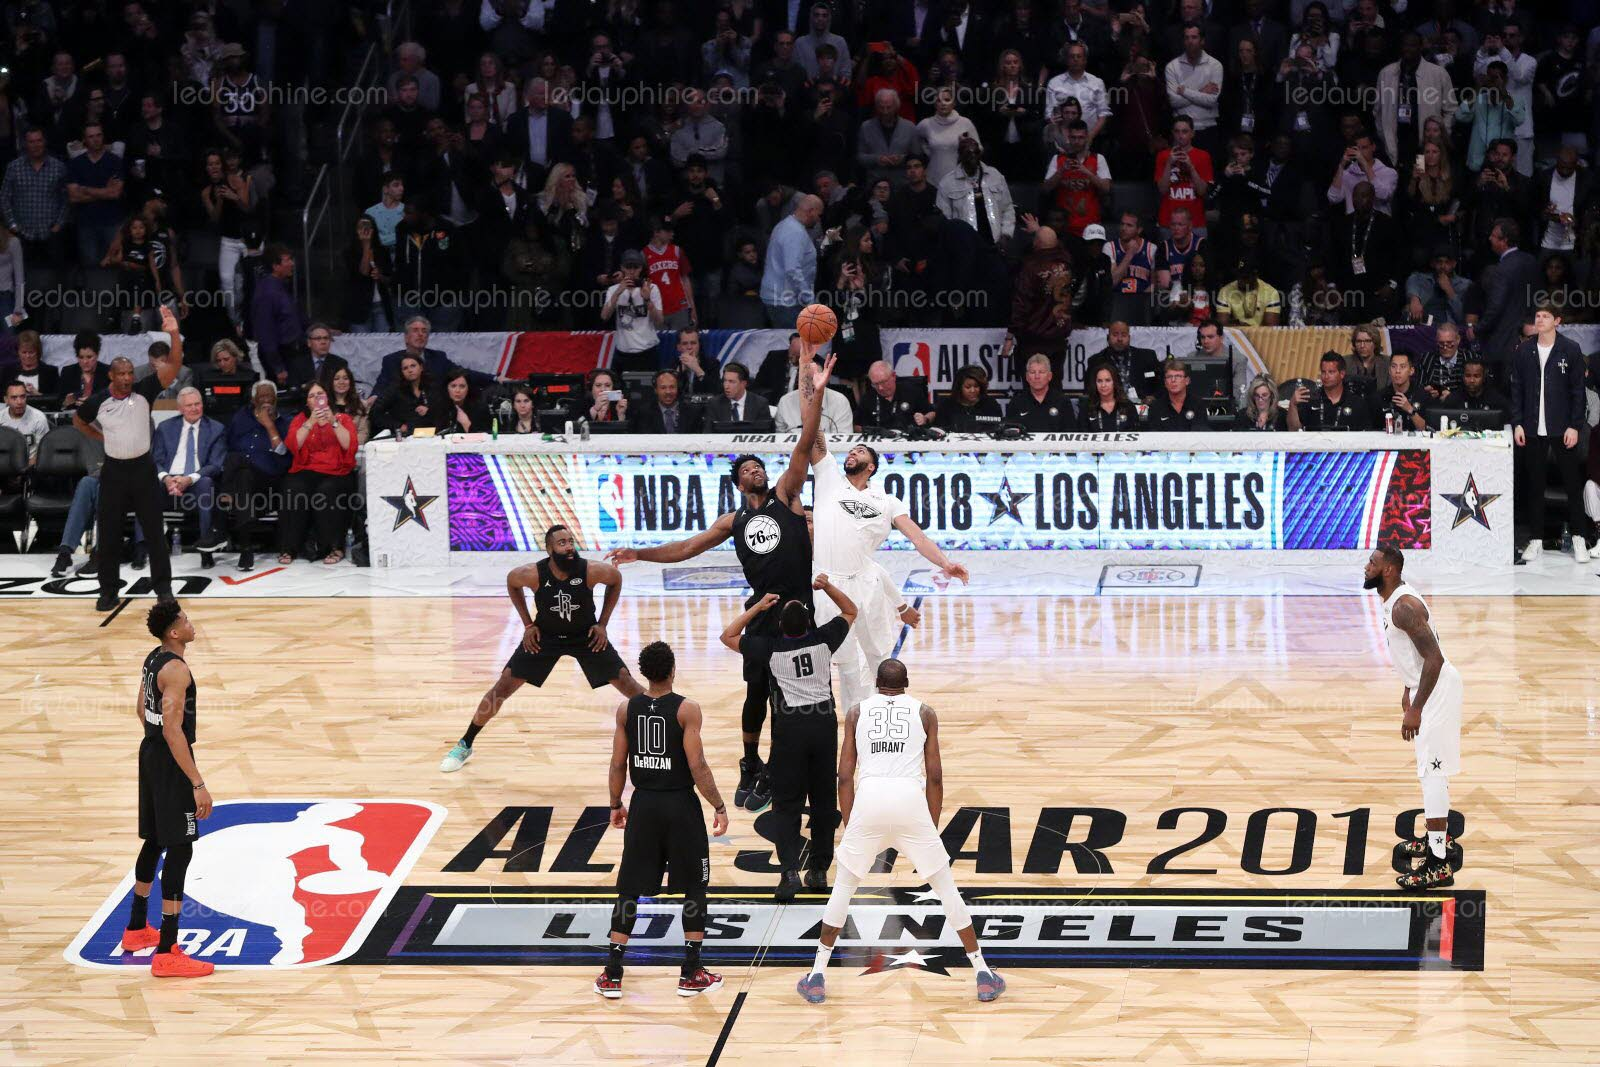basketball: (793, 297, 842, 347)
basketball player: (802, 660, 1005, 1014), (441, 523, 646, 767), (597, 638, 732, 1004), (819, 374, 968, 696), (1358, 548, 1473, 899), (119, 596, 210, 979), (646, 448, 812, 597)
referee: (727, 596, 851, 894)
